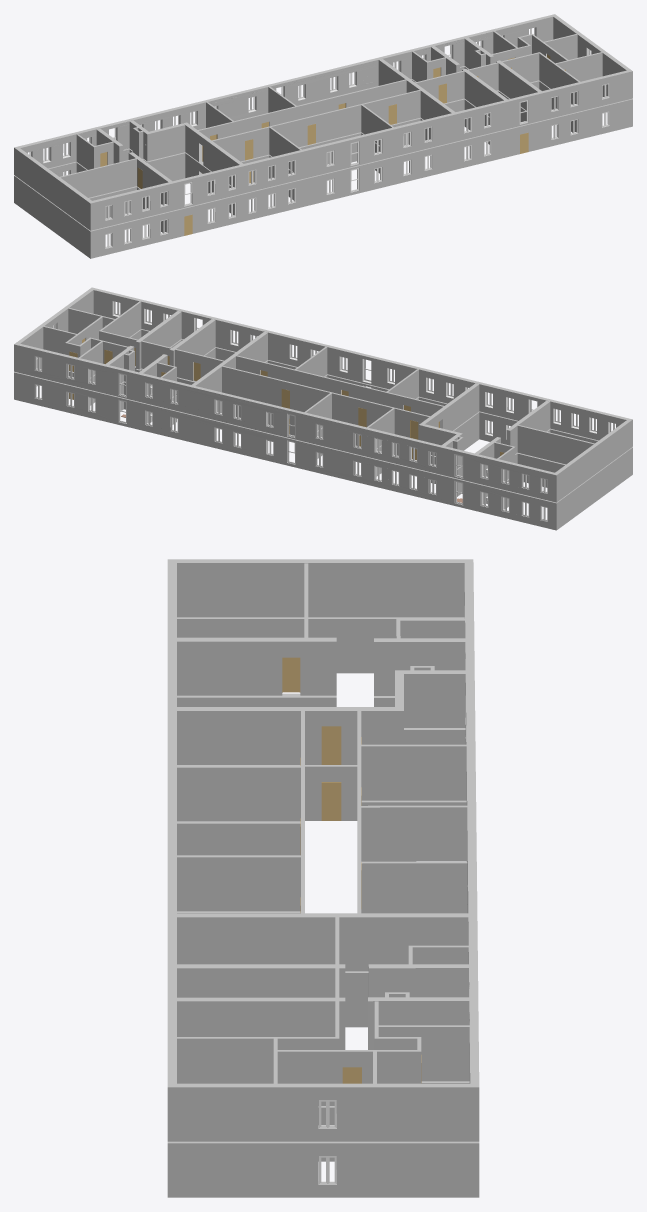
File: ofis_glb.glb
3 renders of one model, top to bottom at view 1: azimuth 30°, elevation 25°; view 2: azimuth 150°, elevation 25°; view 3: azimuth 270°, elevation 25°, orthographic. The views are drawn at different scales.
Bounding box in the file's own units: 0.0624 × 0.00693 × 0.0156.
